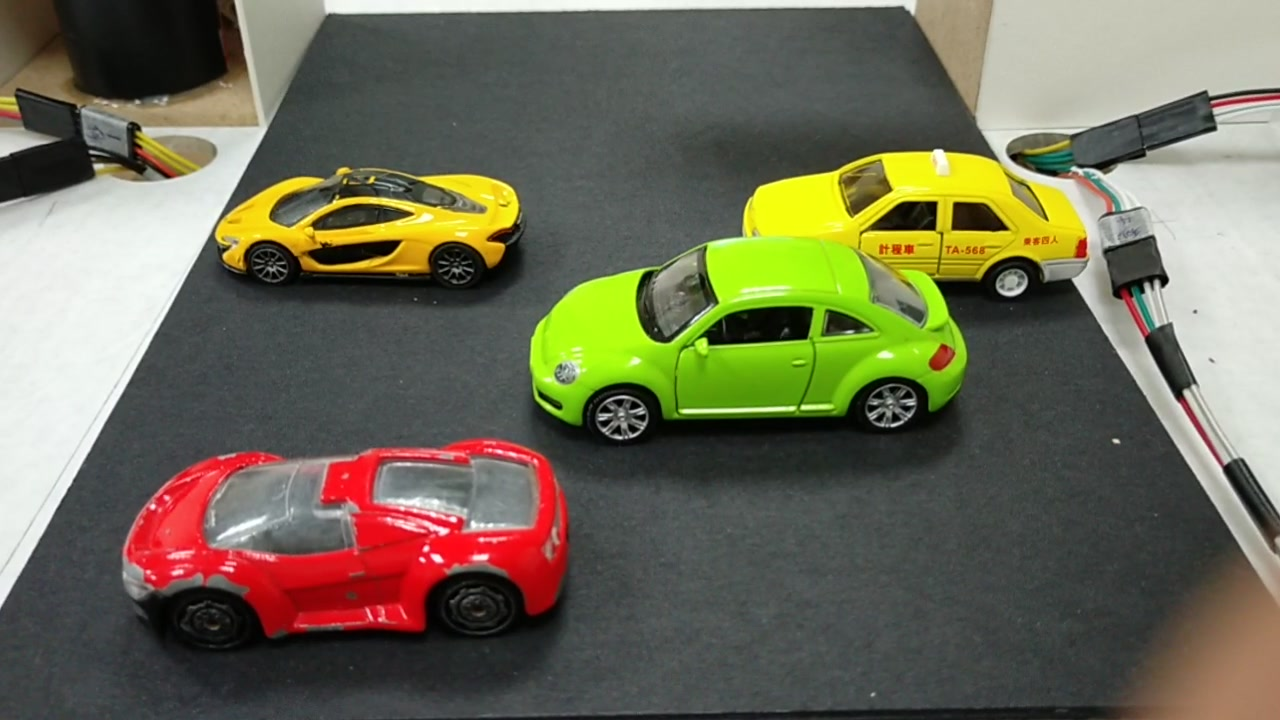car: (127, 446, 568, 636), (539, 244, 957, 436), (739, 141, 1090, 294), (222, 176, 520, 284)
